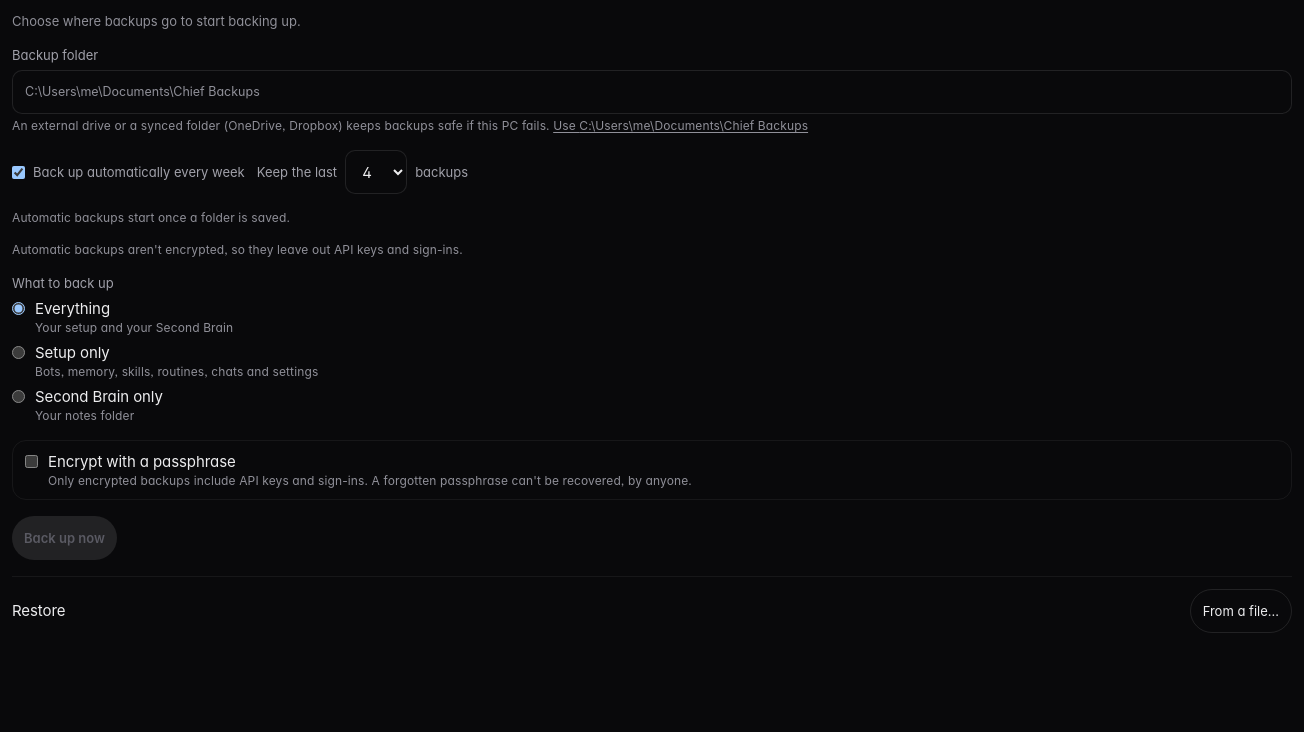
it: shows the suggested folder without applying it, and backs up only after a folder is saved
Expected: the text "Choose where backups go to start backing up." is shown, [12,12,301,30]
Expected: the field with placeholder "C:\\Users\\me\\Documents\\Chief Backups" is empty, [12,70,1292,114]
Click the button "Use C:\\Users\\me\\Documents\\Chief Backups". click: (681, 126)
box: [553,118,808,134]
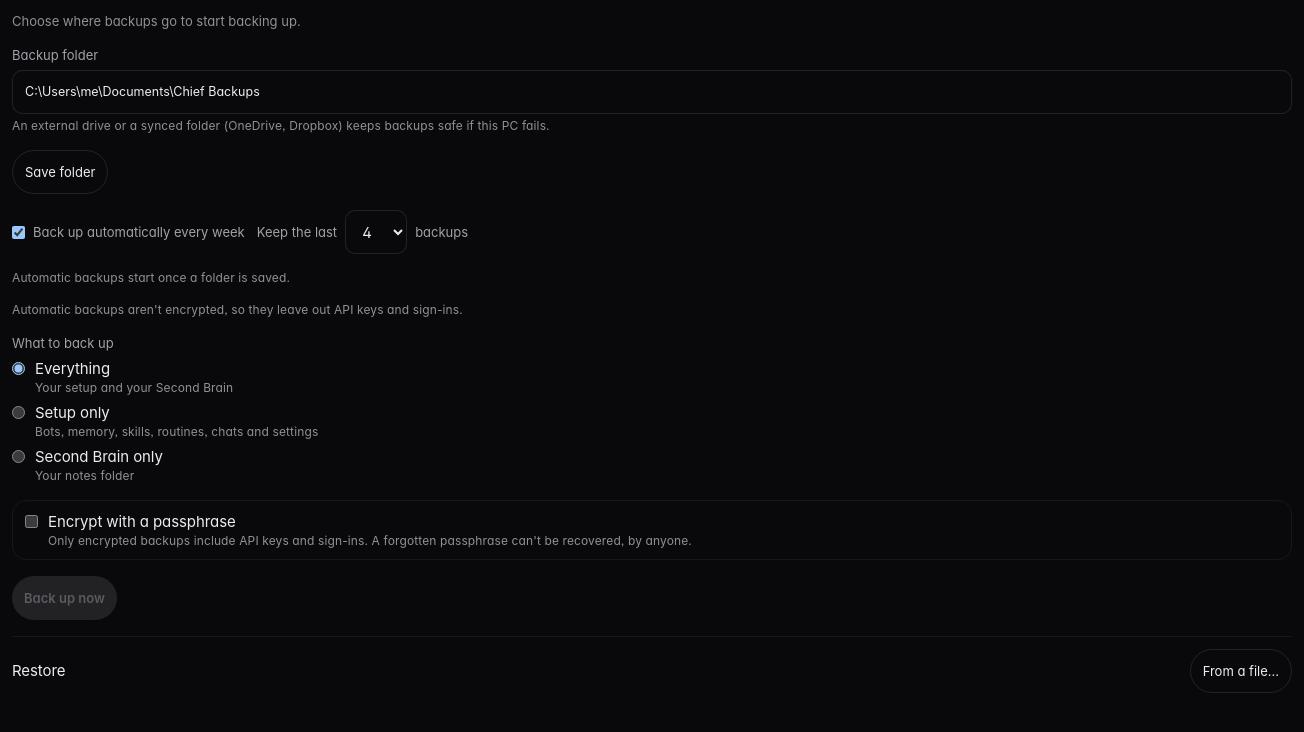
Expected: the field with placeholder "C:\\Users\\me\\Documents\\Chief Backups" holds "C:\\Users\\me\\Documents\\Chief Backups", [12,70,1292,114]
Click the button "Save folder". click: (60, 172)
box: [12,150,108,194]
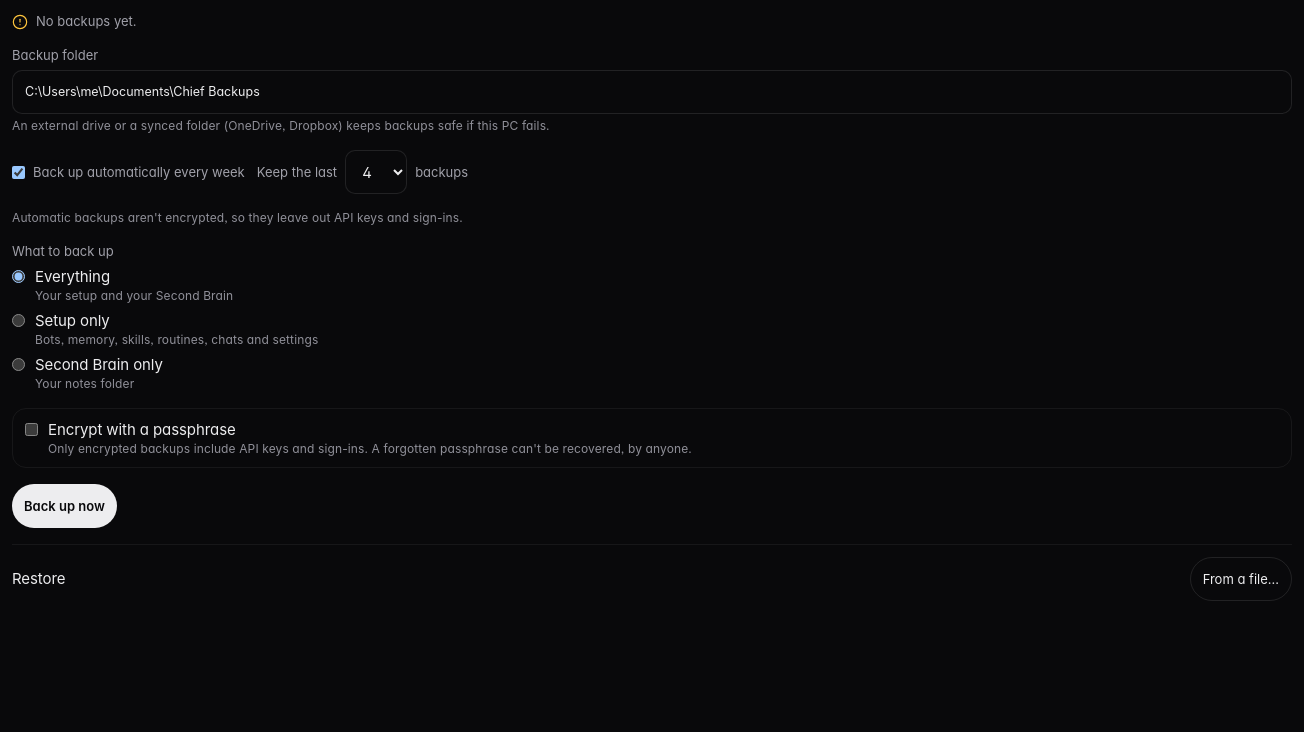
Expected: the button "Back up now" is enabled, [12,484,117,528]
Click the checkbox labelled "Encrypt with a passphrase". click: (32, 430)
box: [25,423,38,436]
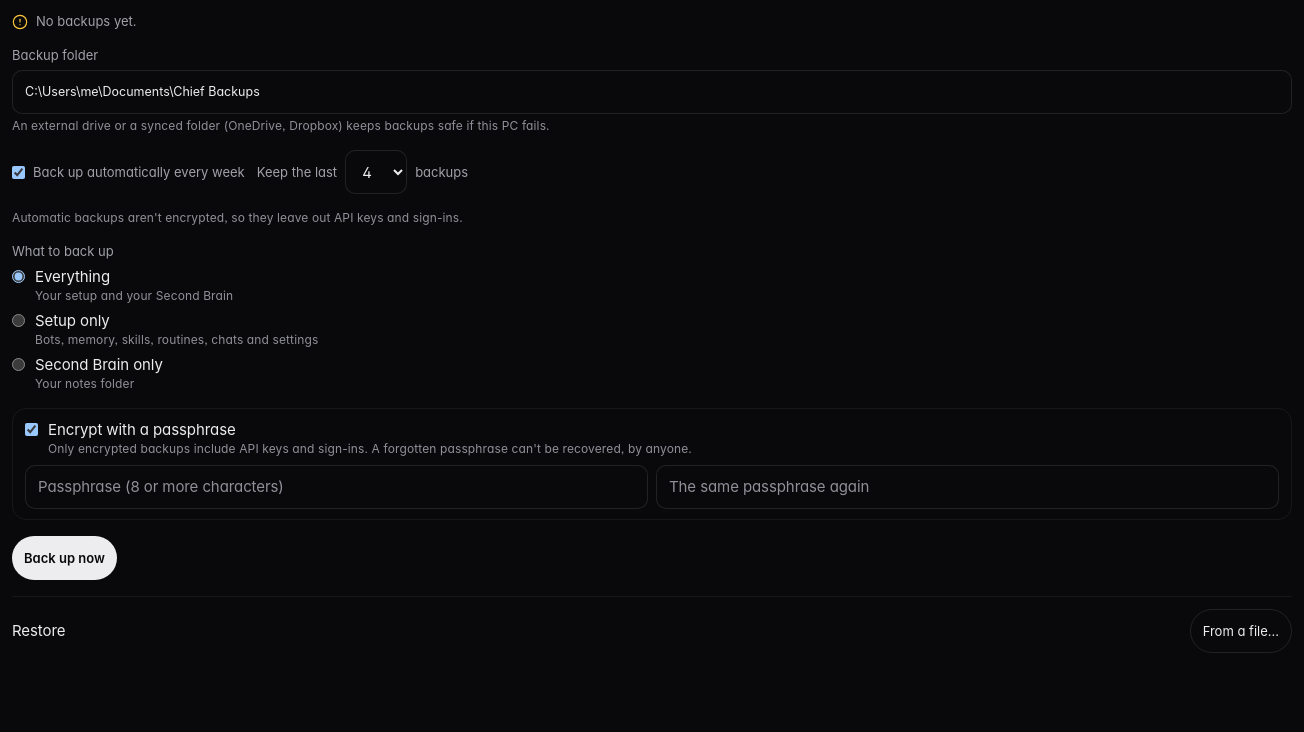
Type "long passphrase" into the password field labelled "Passphrase". click: (336, 487)
box: [25,465,648,509]
Type "different one" into the password field labelled "passphrase again". click: (968, 487)
box: [656,465,1279,509]
Click the button "Back up now". click: (64, 558)
box: [12,536,117,580]
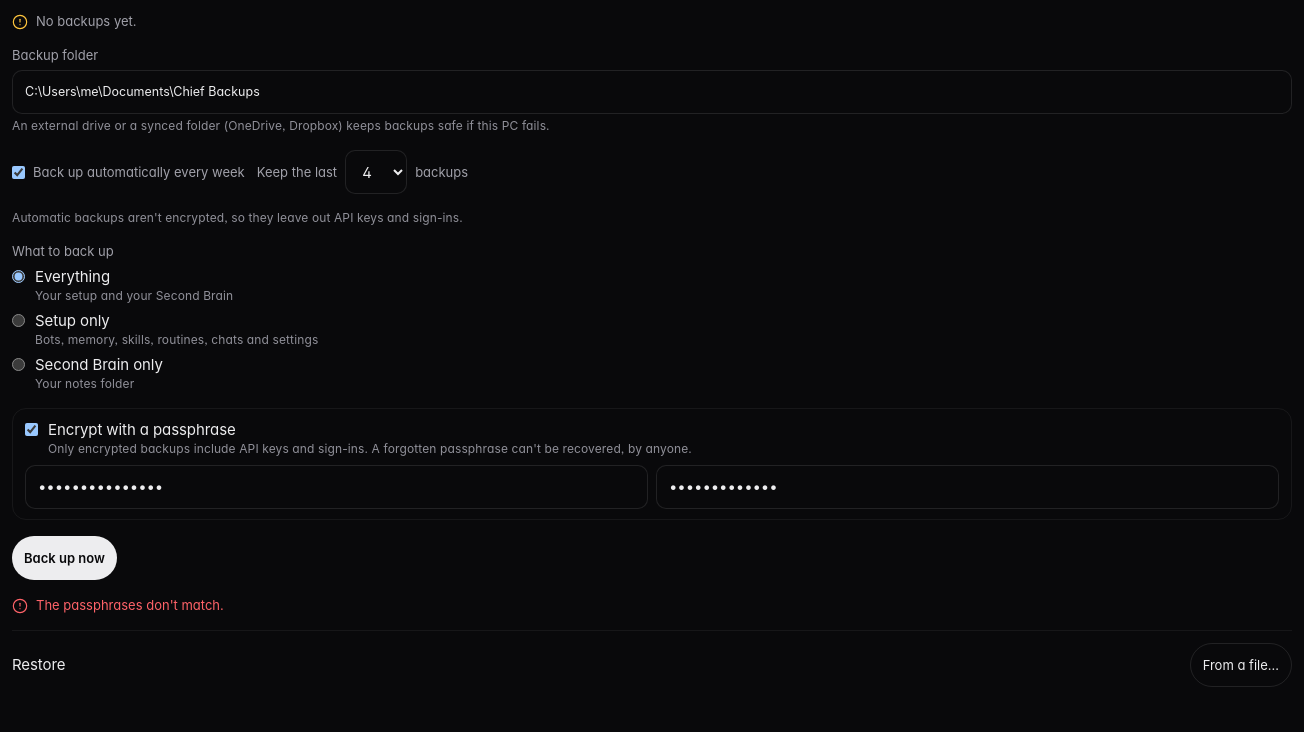
Expected: the text "The passphrases don't match." is shown, [36,596,224,614]
Type "long passphrase" into the password field named "passphrase again". click: (968, 487)
box: [656,465,1279,509]
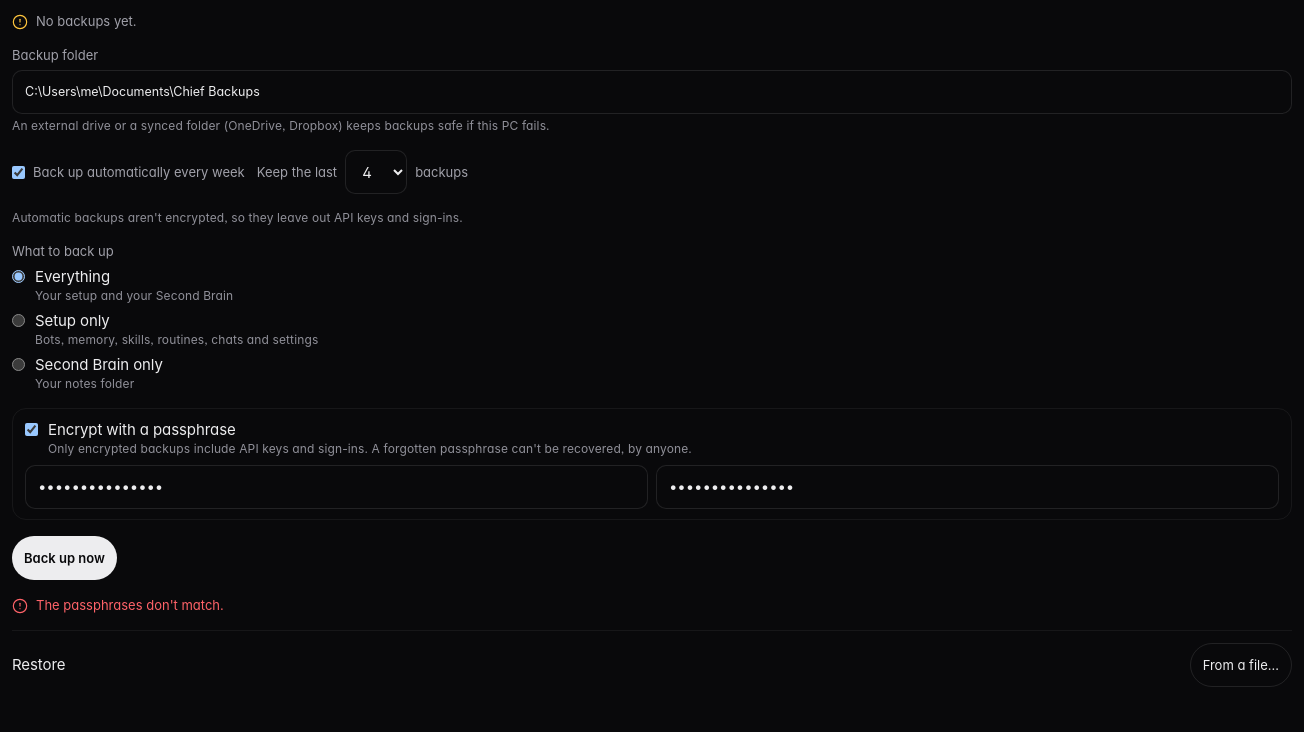
Click the button "Back up now". click: (64, 558)
box: [12,536,117,580]
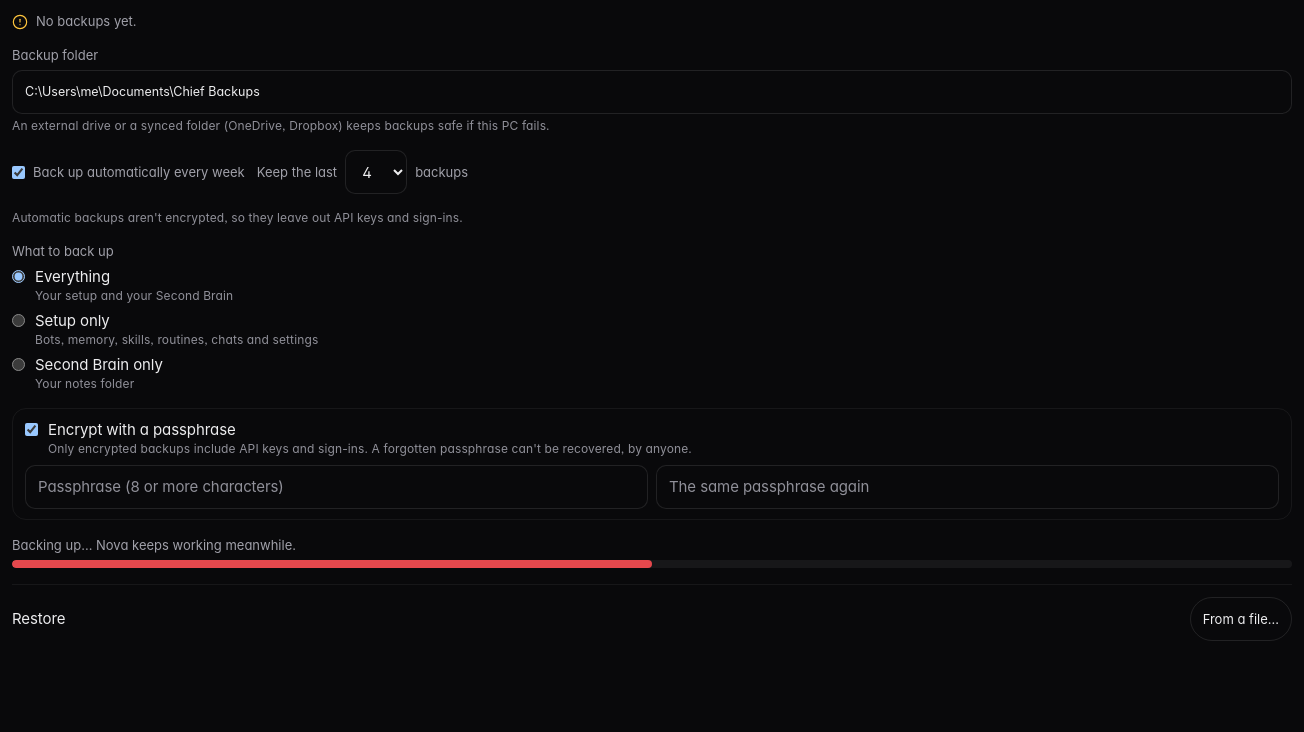
Expected: the progress indicator named "Backup progress" is shown, [12,560,1292,568]
